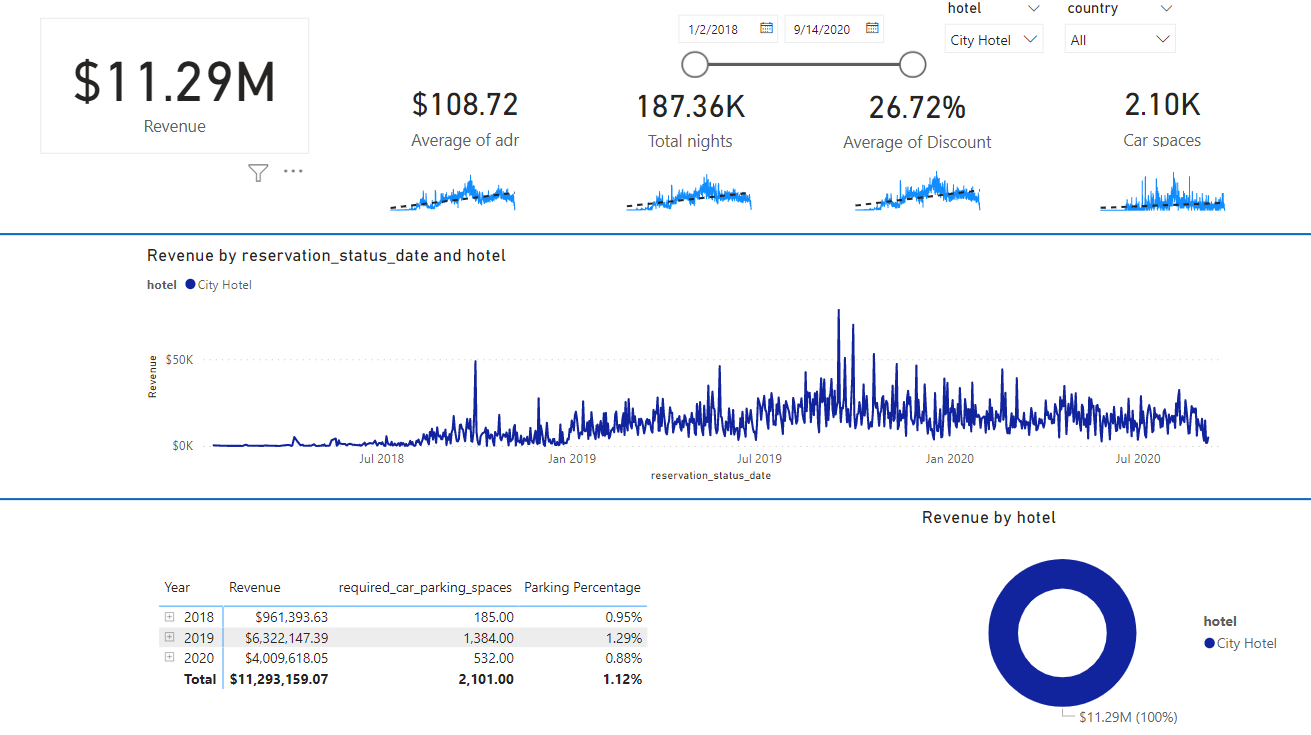

What the dashboard file says about the page in this screenshot:
{"tool":"powerbi","page":{"name":"Page 1","canvas":[1280,720],"ordinal":0},"visuals":[{"type":"shape","box":[0,92,1280,280.2],"z":0},{"type":"shape","box":[0,347.5,1280,280.2],"z":1000},{"type":"card","fields":{"Values":["Sum(Query1.Revenue)"]},"box":[49.4,23.3,259.6,130.5],"z":2000},{"type":"card","fields":{"Values":["Avg(Query1.adr)"]},"box":[332.4,67.3,252.7,94.8],"z":3000},{"type":"card","fields":{"Values":["Query1.Total nights"]},"box":[549.4,67.3,252.7,97.5],"z":4000},{"type":"card","fields":{"Values":["Avg(Query1.Discount)"]},"box":[791.1,67.3,208.8,100.3],"z":5000},{"type":"areaChart","fields":{"Category":["Query1.reservation_status_date"],"Y":["Sum(Query1.Revenue)"],"Series":["Query1.hotel"]},"box":[147,241.7,1056.1,234.8],"z":6000},{"type":"slicer","fields":{"Values":["Query1.country"]},"box":[1027.3,0,127.7,65.9],"z":7000},{"type":"slicer","fields":{"Values":["Query1.hotel"]},"box":[911.9,0,115.4,67.3],"z":8000},{"type":"areaChart","fields":{"Category":["Query1.reservation_status_date"],"Y":["Sum(Query1.adr)"]},"box":[372.2,153.8,149.7,60.4],"z":9000},{"type":"areaChart","fields":{"Category":["Query1.reservation_status_date"],"Y":["Query1.Total nights"]},"box":[600.2,153.8,149.7,60.4],"z":10000},{"type":"areaChart","fields":{"Category":["Query1.reservation_status_date"],"Y":["Sum(Query1.Discount)"]},"box":[821.3,153.8,149.7,60.4],"z":11000},{"type":"card","fields":{"Values":["Sum(Query1.required_car_parking_spaces)"]},"box":[1027.3,76.9,208.8,75.5],"z":12000},{"type":"areaChart","fields":{"Category":["Query1.reservation_status_date"],"Y":["Sum(Query1.required_car_parking_spaces)"]},"box":[1057.5,153.8,149.7,60.4],"z":13000},{"type":"donutChart","fields":{"Y":["Sum(Query1.Revenue)"],"Category":["Query1.hotel"]},"box":[895.5,494.4,362.6,225.2],"z":14000},{"type":"pivotTable","fields":{"Rows":["Query1.reservation_status_date.Variation.Date Hierarchy.Year","Query1.hotel"],"Values":["Sum(Query1.Revenue)","Sum(Query1.required_car_parking_spaces)","Query1.Parking Percentage"]},"box":[159.3,556.2,642.7,137.3],"z":15000},{"type":"slicer","fields":{"Values":["Query1.reservation_status_date"]},"box":[652.4,9.6,259.6,79.7],"z":15001}]}

Visuals, with their boxes in screenshot pixels (x1, y1, x2, y2), scaled from the page's 1280x720 canvas onto the 1311x735 screenshot:
shape: (x1=0, y1=94, x2=1310, y2=380)
shape: (x1=0, y1=355, x2=1310, y2=641)
card - Sum(Query1.Revenue): (x1=51, y1=24, x2=316, y2=157)
card - Avg(Query1.adr): (x1=340, y1=69, x2=599, y2=165)
card - Query1.Total nights: (x1=563, y1=69, x2=822, y2=168)
card - Avg(Query1.Discount): (x1=810, y1=69, x2=1024, y2=171)
areaChart - Query1.reservation_status_date x Sum(Query1.Revenue): (x1=151, y1=247, x2=1232, y2=486)
slicer - Query1.country: (x1=1052, y1=0, x2=1183, y2=67)
slicer - Query1.hotel: (x1=934, y1=0, x2=1052, y2=69)
areaChart - Query1.reservation_status_date x Sum(Query1.adr): (x1=381, y1=157, x2=535, y2=219)
areaChart - Query1.reservation_status_date x Query1.Total nights: (x1=615, y1=157, x2=768, y2=219)
areaChart - Query1.reservation_status_date x Sum(Query1.Discount): (x1=841, y1=157, x2=995, y2=219)
card - Sum(Query1.required_car_parking_spaces): (x1=1052, y1=79, x2=1266, y2=156)
areaChart - Query1.reservation_status_date x Sum(Query1.required_car_parking_spaces): (x1=1083, y1=157, x2=1236, y2=219)
donutChart - Sum(Query1.Revenue) x Query1.hotel: (x1=917, y1=505, x2=1289, y2=734)
pivotTable - Query1.reservation_status_date.Variation.Date Hierarchy.Year x Query1.hotel: (x1=163, y1=568, x2=821, y2=708)
slicer - Query1.reservation_status_date: (x1=668, y1=10, x2=934, y2=91)
